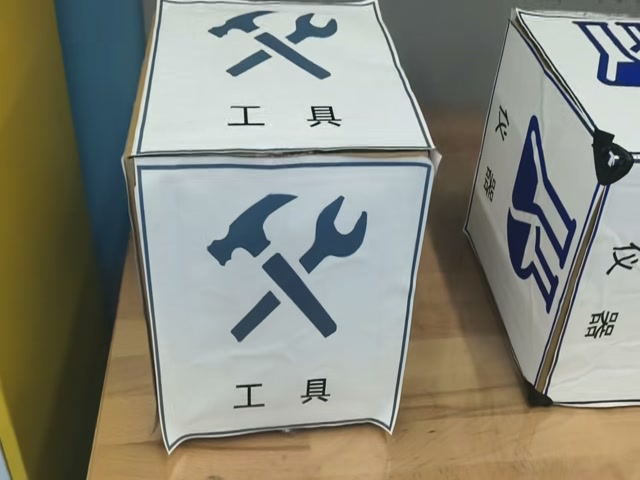Cube_ins: (512, 8, 640, 165)
Cube_tool: (132, 5, 436, 169)
